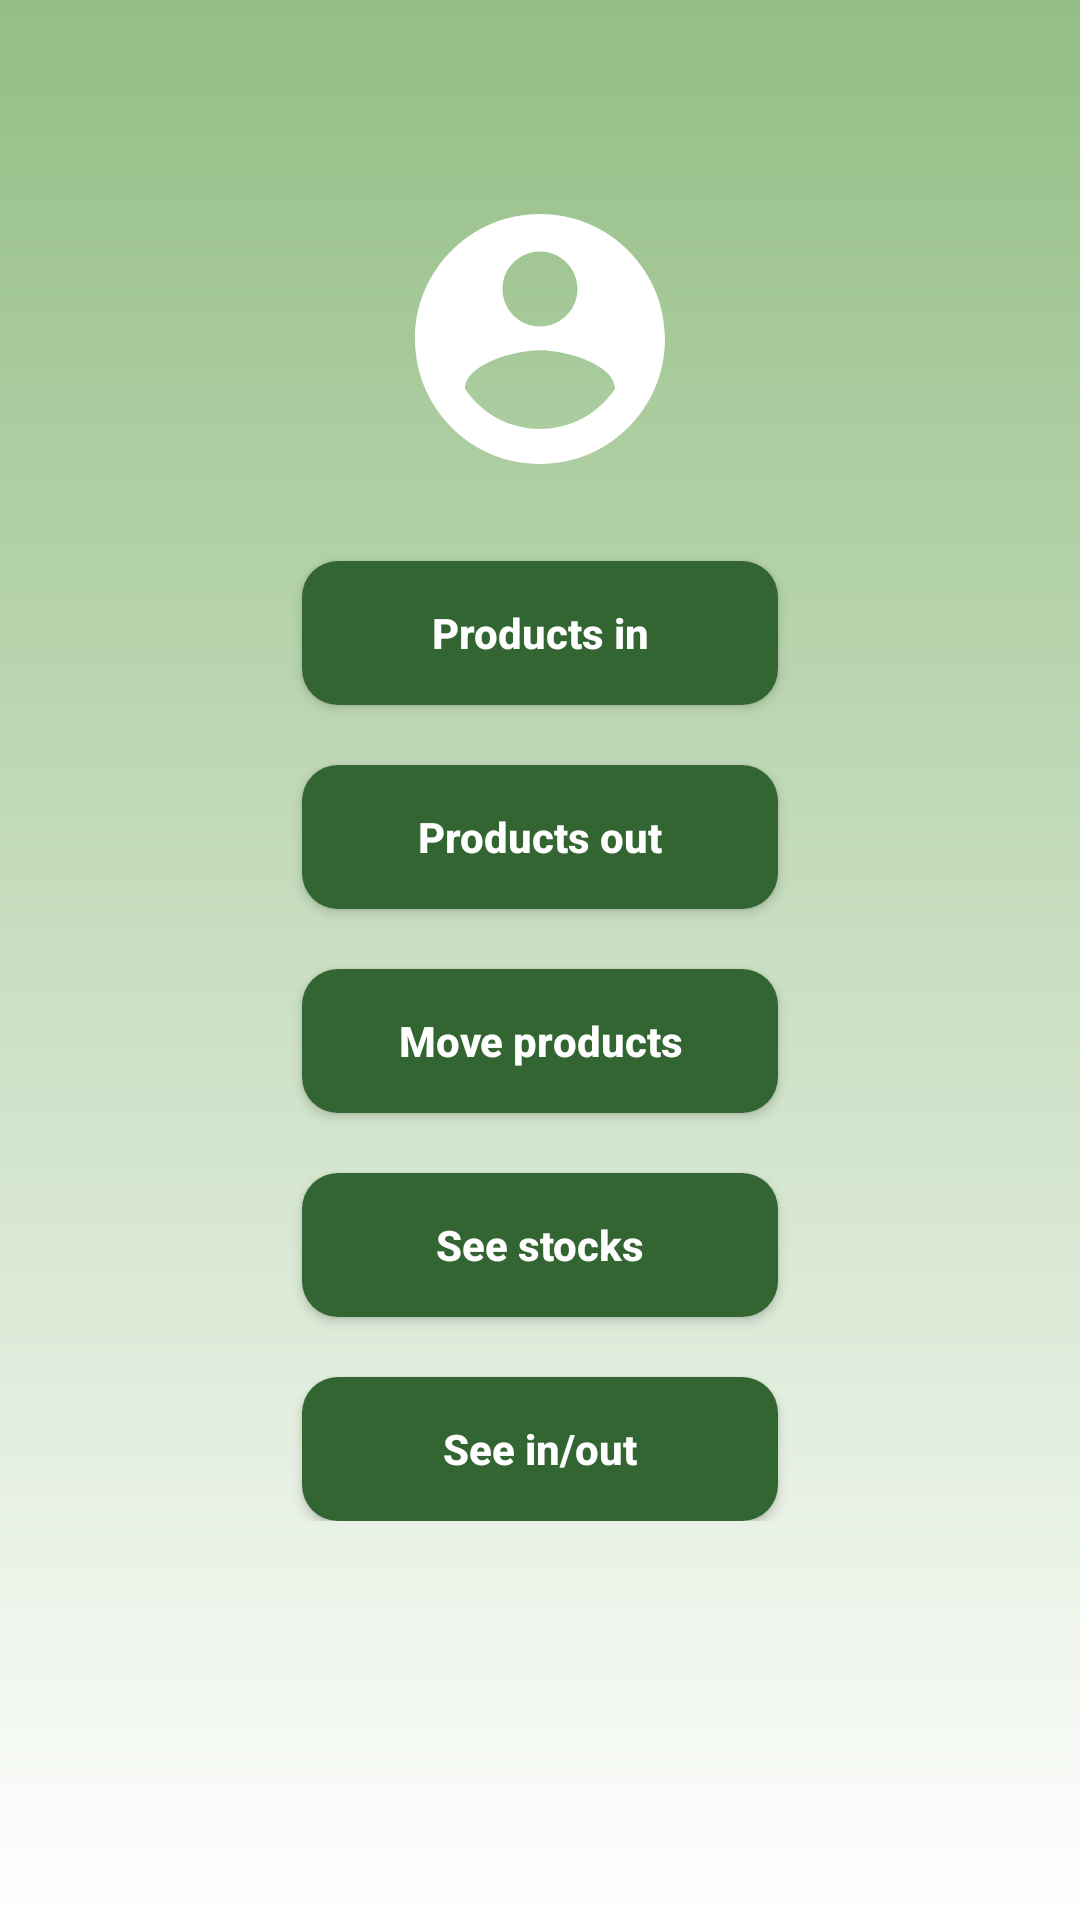

Icon bounding boxes for this 1080 x 1920 phone screenshot, format (x1, y1, x2, y2):
profile picture: (415, 214, 665, 464)
